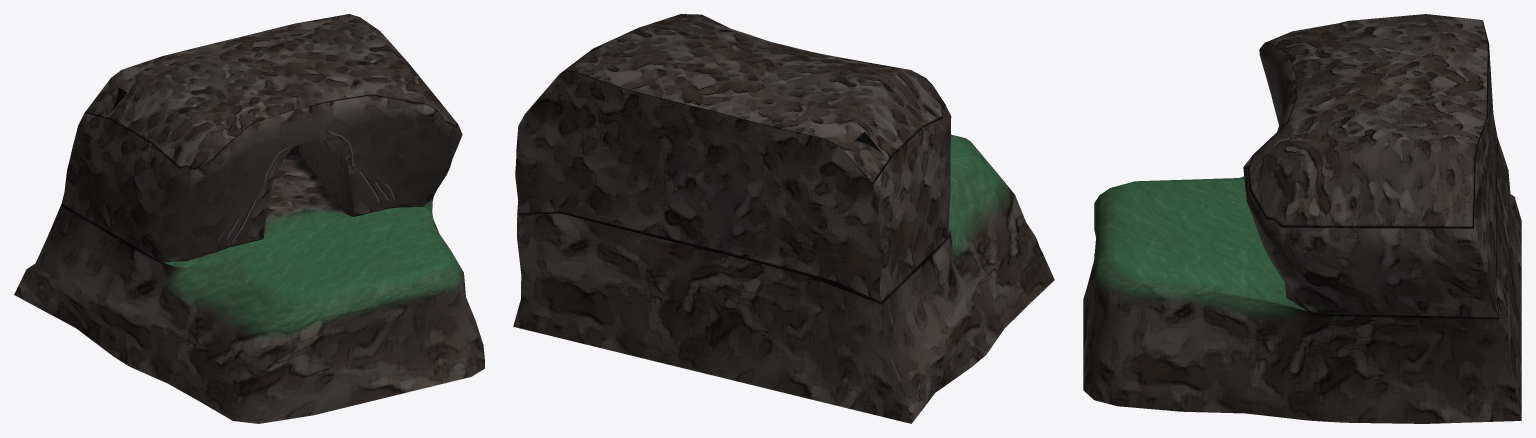
File: LedgedHill.fbx
3 renders of one model, left to right at view 1: azimuth 30°, elevation 25°; view 2: azimuth 150°, elevation 25°; view 3: azimuth 270°, elevation 25°, orthographic. The views are drawn at different scales.
Parts seen in each view (by area): view 1: LedgedHill; view 2: LedgedHill; view 3: LedgedHill.
Part boxes in pixels (left/top/right/bottom): LedgedHill: left=14, top=14, right=484, bottom=423; LedgedHill: left=513, top=14, right=1054, bottom=423; LedgedHill: left=1083, top=14, right=1521, bottom=423.
Bounding box in the file's own units: 2590 × 1610 × 2306.
1 material, 1 textured.
